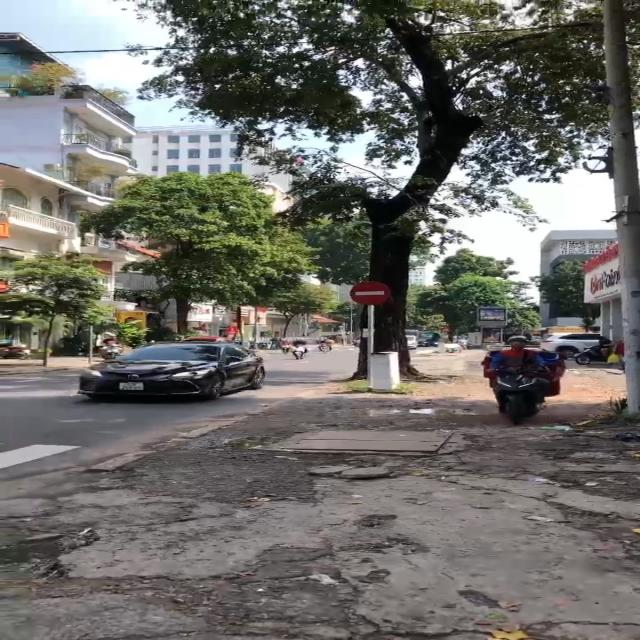Bien bao cam di nguoc chieu: (347, 277, 394, 305)
